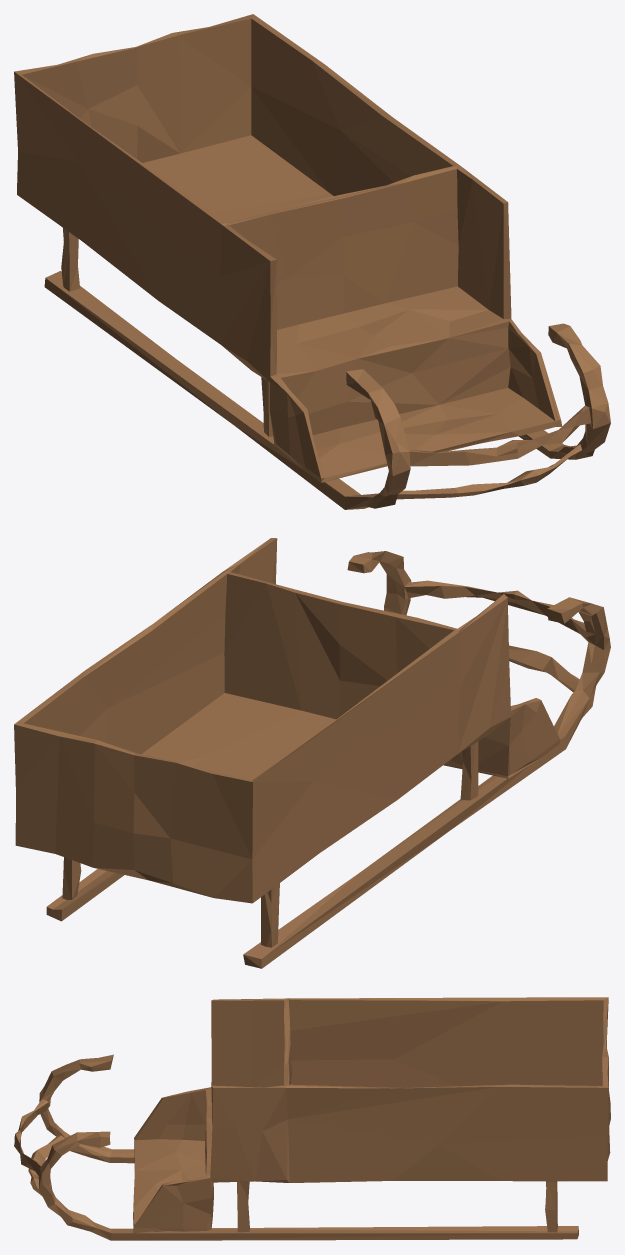
Rendered from Sled_1.fbx.
The picture shows the model from 3 angles, top to bottom: view 1: azimuth 30°, elevation 25°; view 2: azimuth 150°, elevation 25°; view 3: azimuth 270°, elevation 25°; orthographic projection. The views are drawn at different scales.
Parts seen in each view (by area): view 1: Cube; view 2: Cube; view 3: Cube.
Boxes of the visible parts, x1=… form: Cube: x1=14, y1=14, x2=610, y2=509; Cube: x1=14, y1=538, x2=610, y2=968; Cube: x1=14, y1=997, x2=610, y2=1240.
Bounding box in the file's own units: 154 × 126 × 426.
